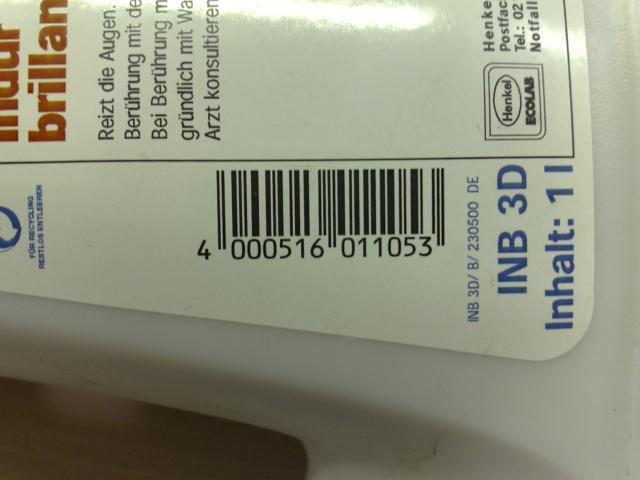Barcode: (186, 161, 457, 274)
